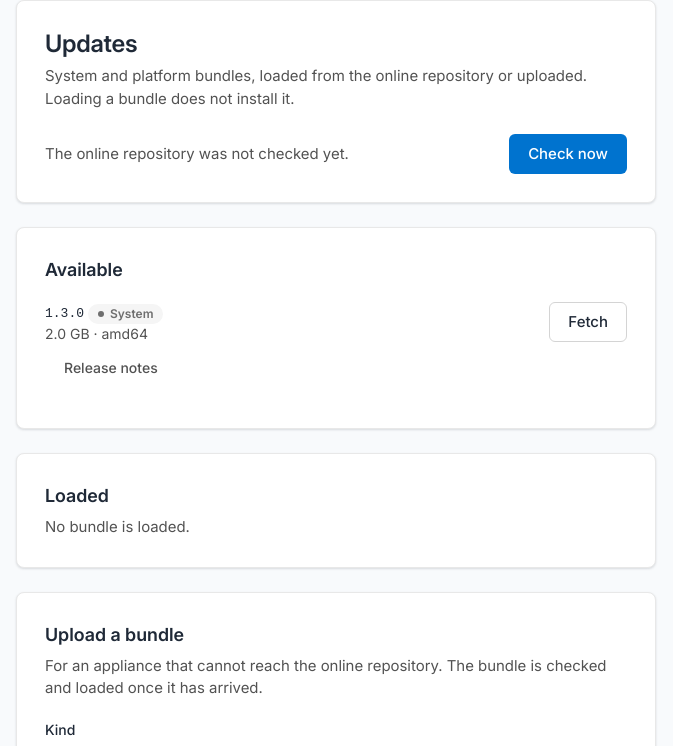
Test: UpdatesPage › says when there are no release notes
The image size is (673, 746).
Click the button with aria-label "Release notes of 1.3.0": x=111, y=368 [45, 348, 177, 388]
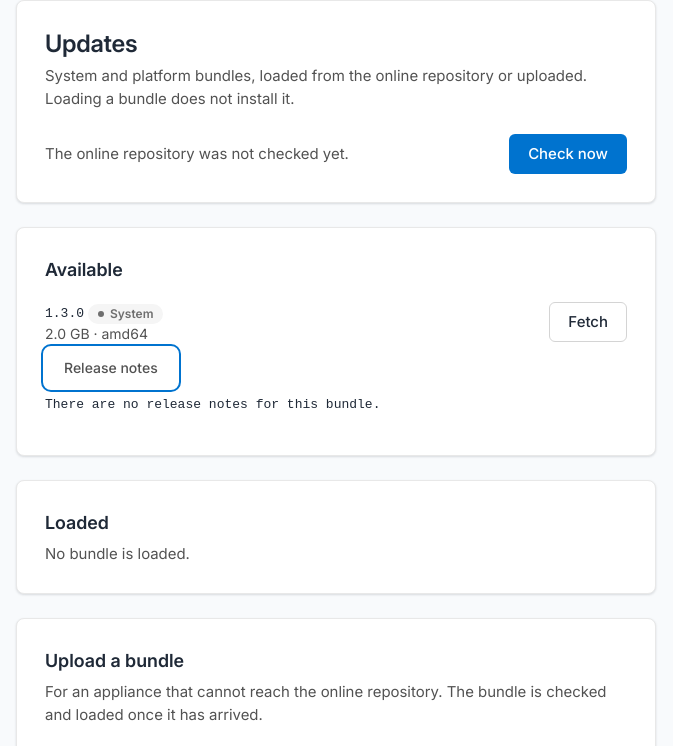
Expected: the text "There are no release notes for this bundle." is shown, [45, 397, 380, 412]
